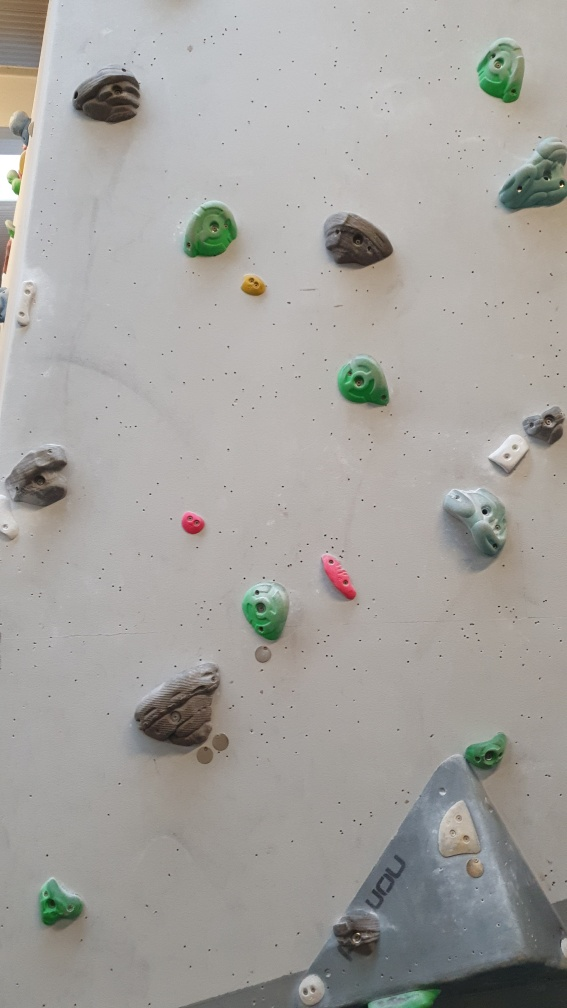Crimp: (323, 544, 359, 604), (491, 432, 530, 473), (14, 282, 40, 329)
Hand Start: (209, 726, 232, 760), (255, 645, 278, 671), (192, 744, 215, 766), (465, 855, 483, 879)
Jug: (130, 659, 222, 747), (492, 132, 567, 213), (438, 484, 512, 563), (4, 442, 74, 512), (69, 63, 148, 125), (319, 209, 395, 270), (180, 196, 241, 261), (474, 35, 528, 104), (334, 352, 396, 411), (240, 581, 292, 647), (466, 730, 510, 771)
Pinch: (176, 510, 210, 540)
